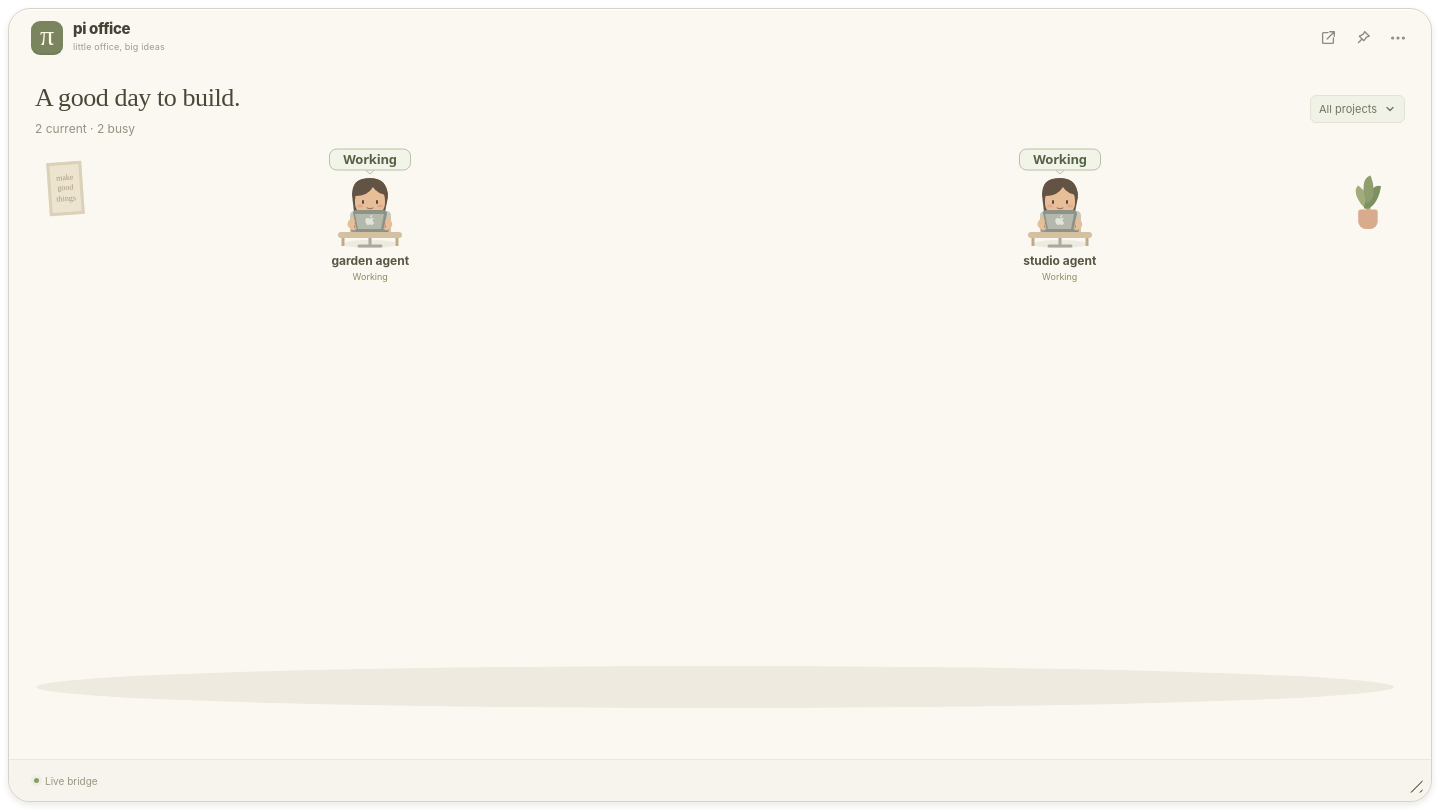
Test: companion dropdown integration › preserves selected project through snapshots and recovers focus when its control disappears
What coordinates should you click on to do the following:
click the button with aria-label "Filter by project"
I would click on:
 (1358, 109)
Its box is [1310,95,1405,123].
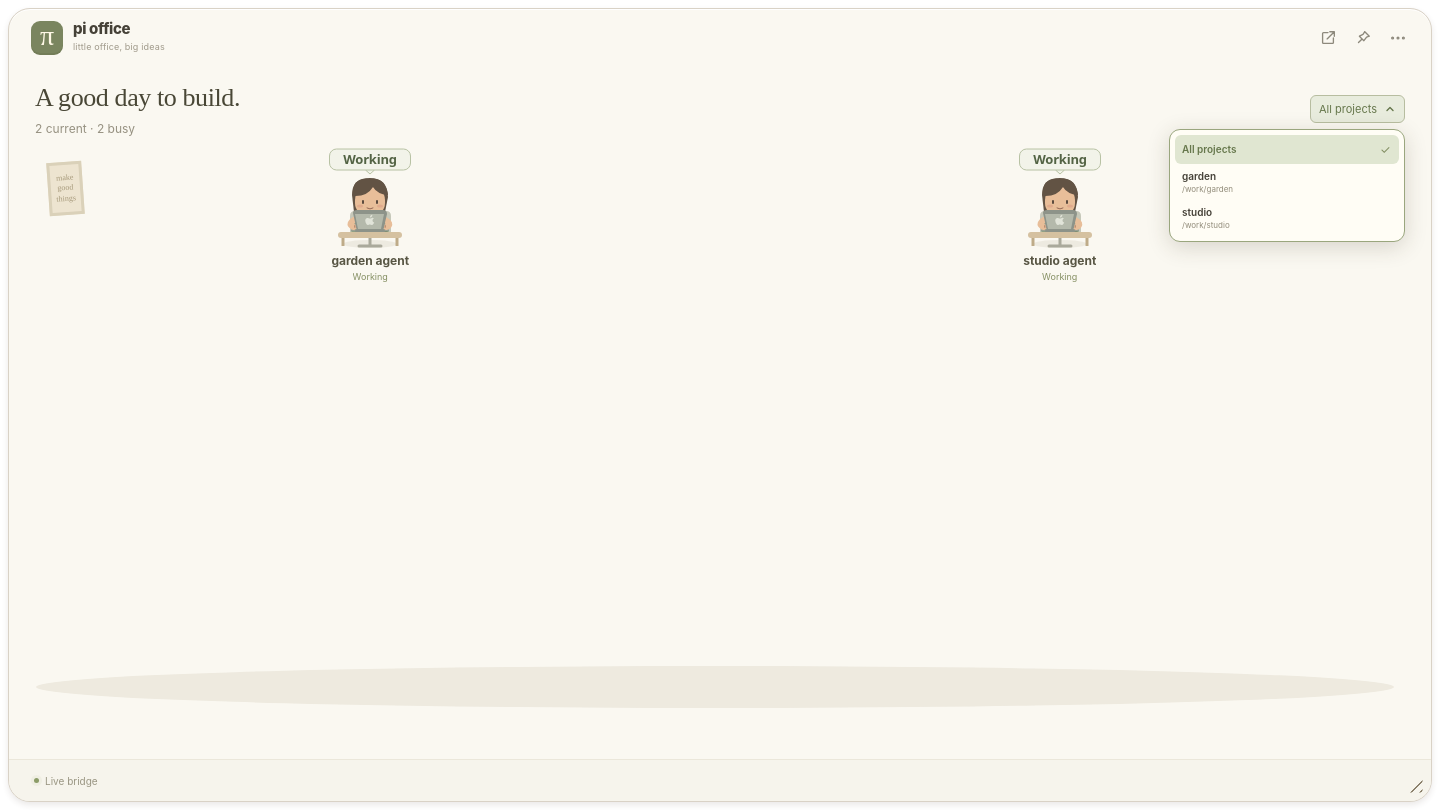
What coordinates should you click on to do the following:
click the option "studio /work/studio"
I would click on:
 (1206, 218)
Its box is [1182,206,1230,230].
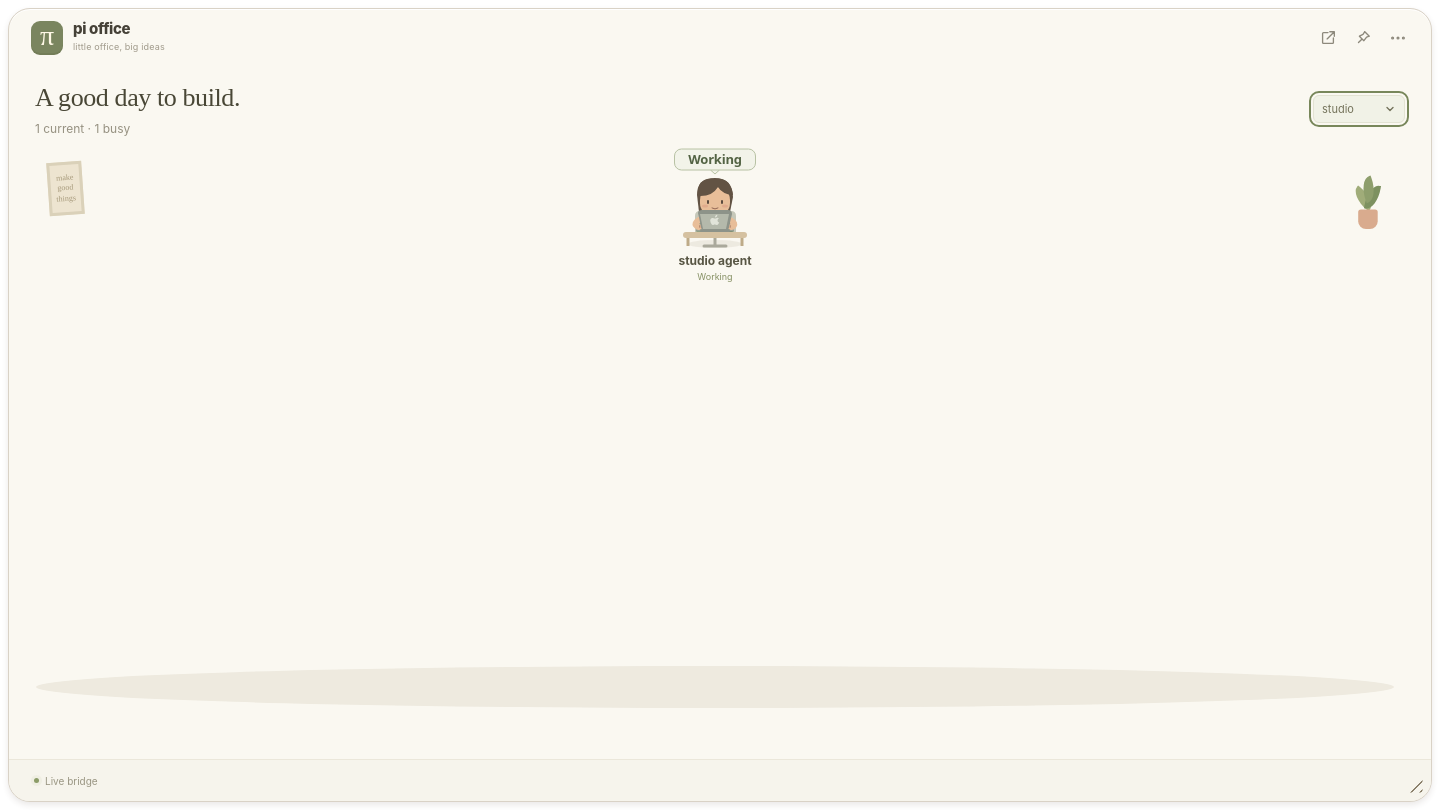
Expected: the button with aria-label "Filter by project" reads "studio"
Expected: the option "garden agent, Working, garden" is gone
What coordinates should you click on to do the following:
click the button with aria-label "Filter by project"
I would click on:
 (1359, 109)
Its box is [1313,95,1405,123].
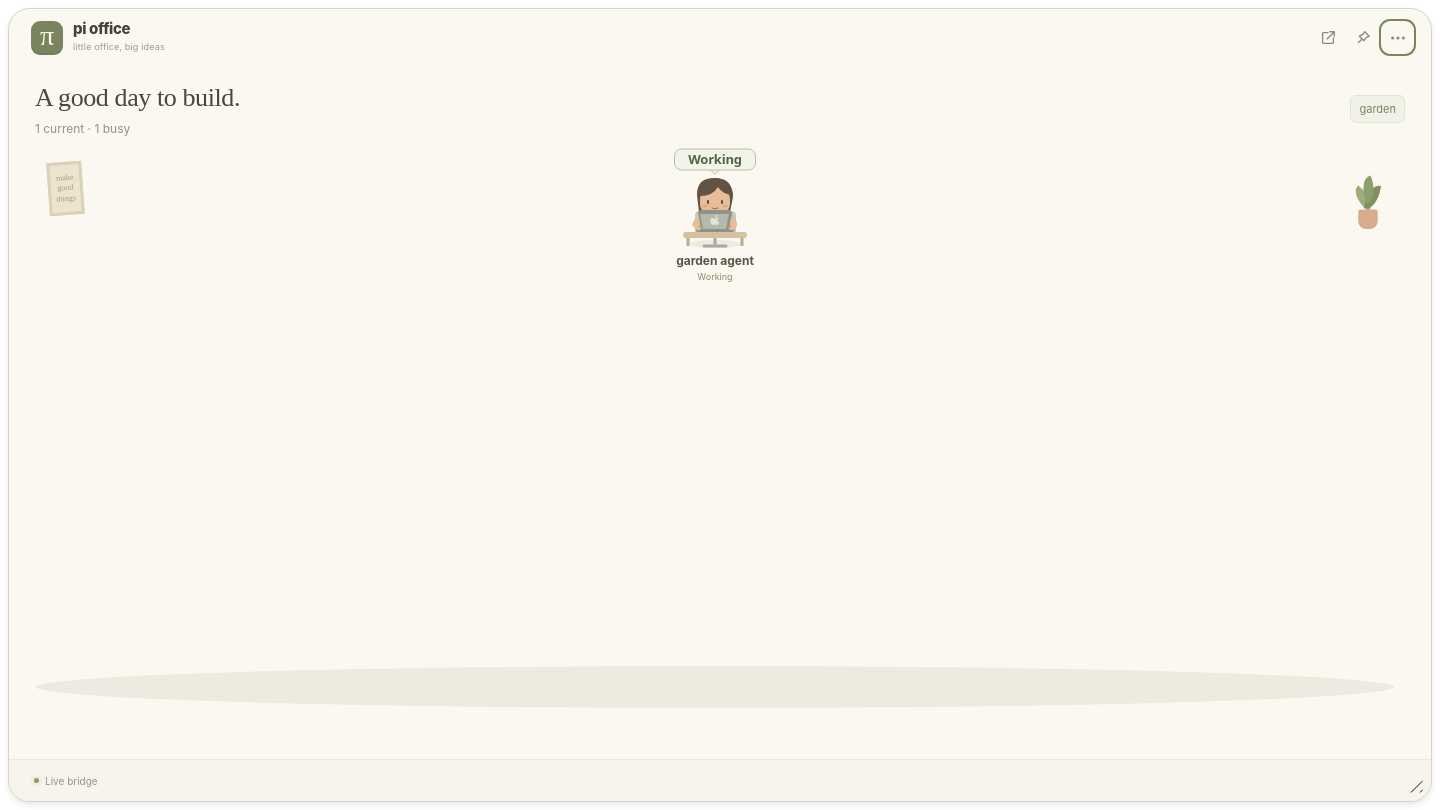
Expected: the button with aria-label "garden agent, Working, garden" is shown, [651,144,779,288]
